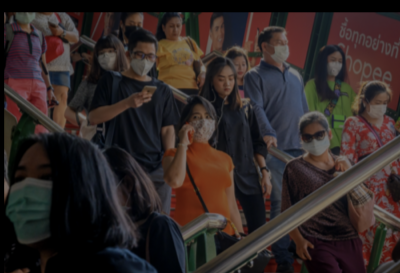with_mask: (7, 163, 55, 246), (299, 129, 332, 158), (189, 111, 217, 142), (129, 49, 157, 77), (268, 39, 291, 65), (365, 98, 390, 121), (97, 49, 118, 71), (121, 19, 145, 38), (326, 55, 344, 77), (15, 13, 37, 24)
without_mask: (213, 73, 237, 96), (232, 60, 248, 79), (166, 21, 182, 39)
